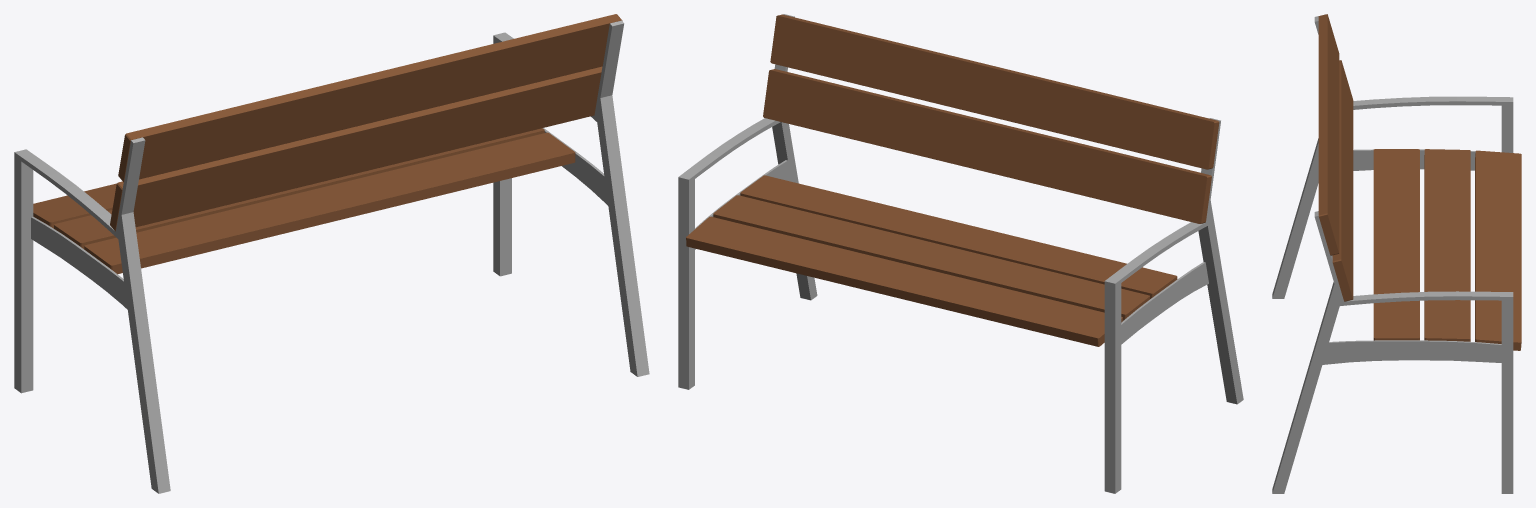
Rendered from banco madeira.fbx.
3 renders of one model, left to right at view 1: azimuth 30°, elevation 25°; view 2: azimuth 150°, elevation 25°; view 3: azimuth 270°, elevation 25°, orthographic. The views are drawn at different scales.
Parts seen in each view (by area): view 1: Cube.009; view 2: Cube.009; view 3: Cube.009.
Part boxes in pixels (x1,y1,x2,y2): Cube.009: (14,14,649,493); Cube.009: (678,14,1243,493); Cube.009: (1272,14,1521,493).
Bounding box in the file's own units: 206 × 134 × 108.
